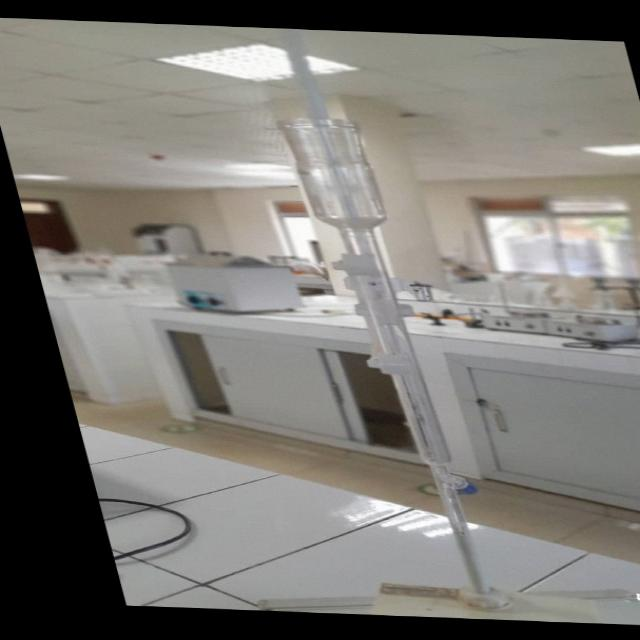Column Chromatography: (256, 115, 537, 604)
